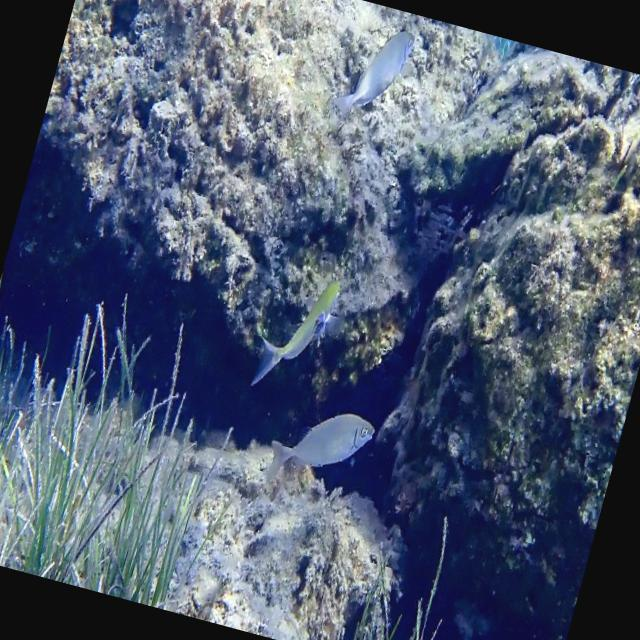Sokar Baligi: (246, 388, 382, 516), (319, 10, 422, 142)
